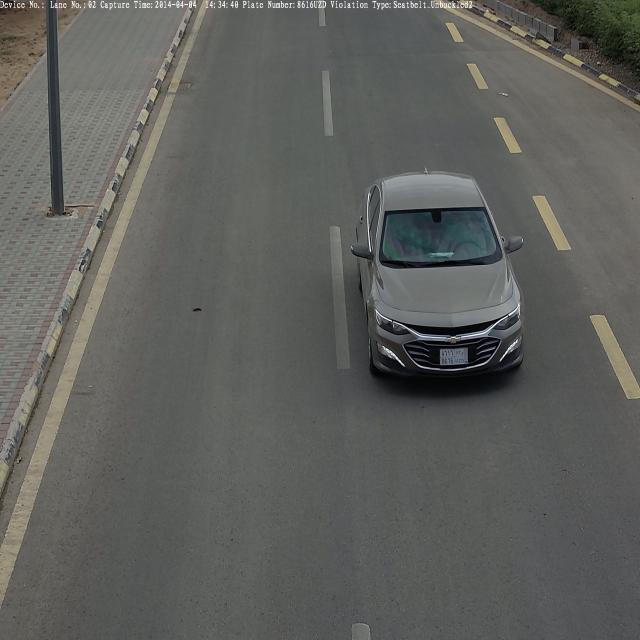person_without_seatbelt: (442, 210, 483, 262)
